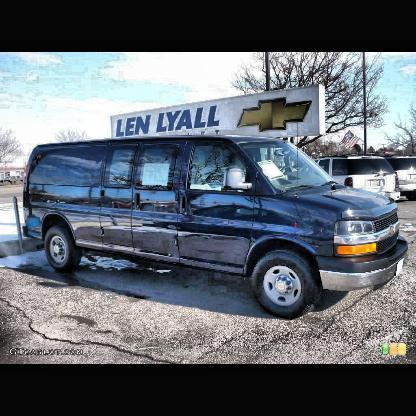Chevrolet Express Van 2007: (23, 138, 409, 322)
